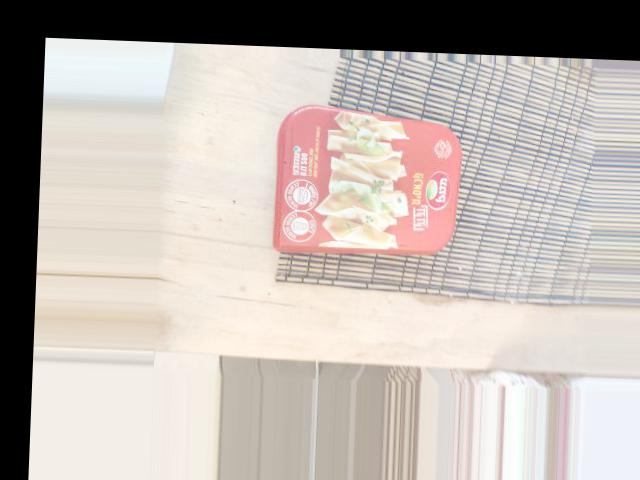cheese: (397, 87, 540, 256)
